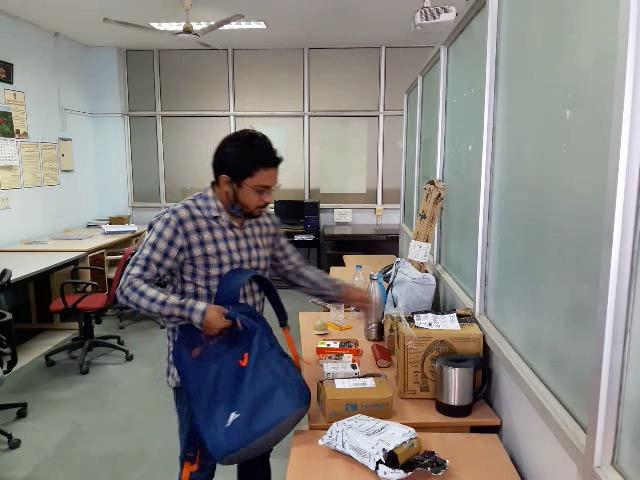shoplifting: (86, 233, 499, 452)
